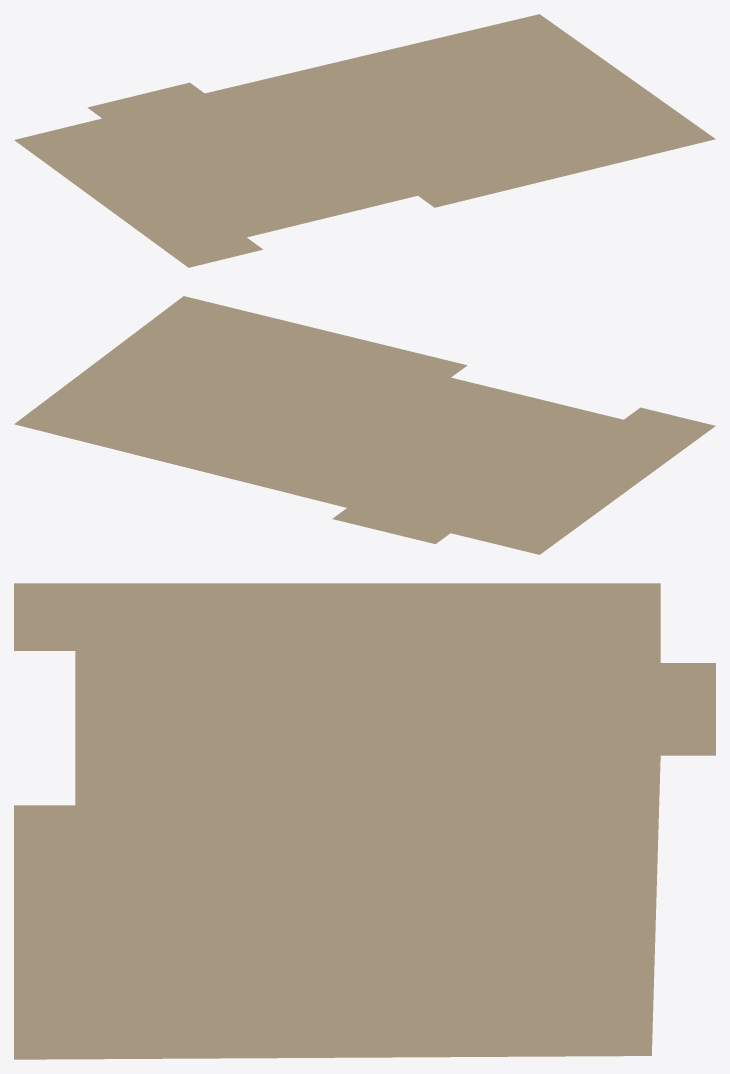
3 renders of one model, top to bottom at view 1: azimuth 30°, elevation 25°; view 2: azimuth 150°, elevation 25°; view 3: azimuth 270°, elevation 25°, orthographic. The views are drawn at different scales.
Parts seen in each view (by area): view 1: B-FF-FLOOR-0349bb54; view 2: B-FF-FLOOR-0349bb54; view 3: B-FF-FLOOR-0349bb54.
Boxes of the visible parts, <box> form: B-FF-FLOOR-0349bb54: <box>14,14,715,267</box>; B-FF-FLOOR-0349bb54: <box>14,296,715,554</box>; B-FF-FLOOR-0349bb54: <box>14,583,715,1059</box>.
Size of the model in its own units: 11 by 1.78e-15 by 6.85.
